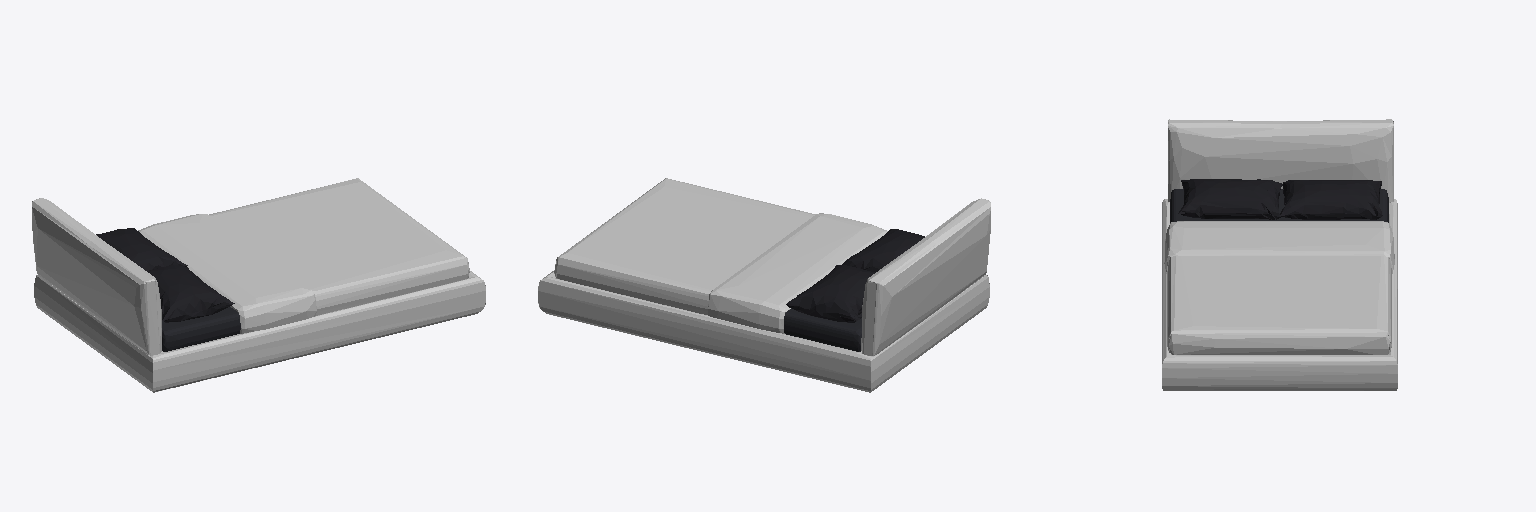
The model's file is bed4.obj.
The picture shows the model from 3 angles: view 1: azimuth 30°, elevation 25°; view 2: azimuth 150°, elevation 25°; view 3: azimuth 270°, elevation 25°; orthographic projection.
Parts seen in each view (by area): view 1: Object_1.001, Object_0.001, Object_3.001, Object_2.001; view 2: Object_1.001, Object_0.001, Object_3.001, Object_2.001; view 3: Object_1.001, Object_0.001, Object_3.001, Object_2.001.
Part boxes in pixels (left/top/right/bottom): Object_1.001: left=138, top=178, right=469, bottom=333; Object_0.001: left=32, top=198, right=485, bottom=392; Object_3.001: left=96, top=228, right=234, bottom=322; Object_2.001: left=162, top=307, right=240, bottom=351; Object_1.001: left=554, top=178, right=887, bottom=333; Object_0.001: left=538, top=198, right=990, bottom=392; Object_3.001: left=786, top=229, right=924, bottom=322; Object_2.001: left=784, top=308, right=861, bottom=351; Object_1.001: left=1164, top=221, right=1394, bottom=354; Object_0.001: left=1162, top=119, right=1397, bottom=390; Object_3.001: left=1178, top=179, right=1382, bottom=219; Object_2.001: left=1170, top=189, right=1388, bottom=222.
Bounding box in the file's own units: 9.01 × 2.81 × 5.4.